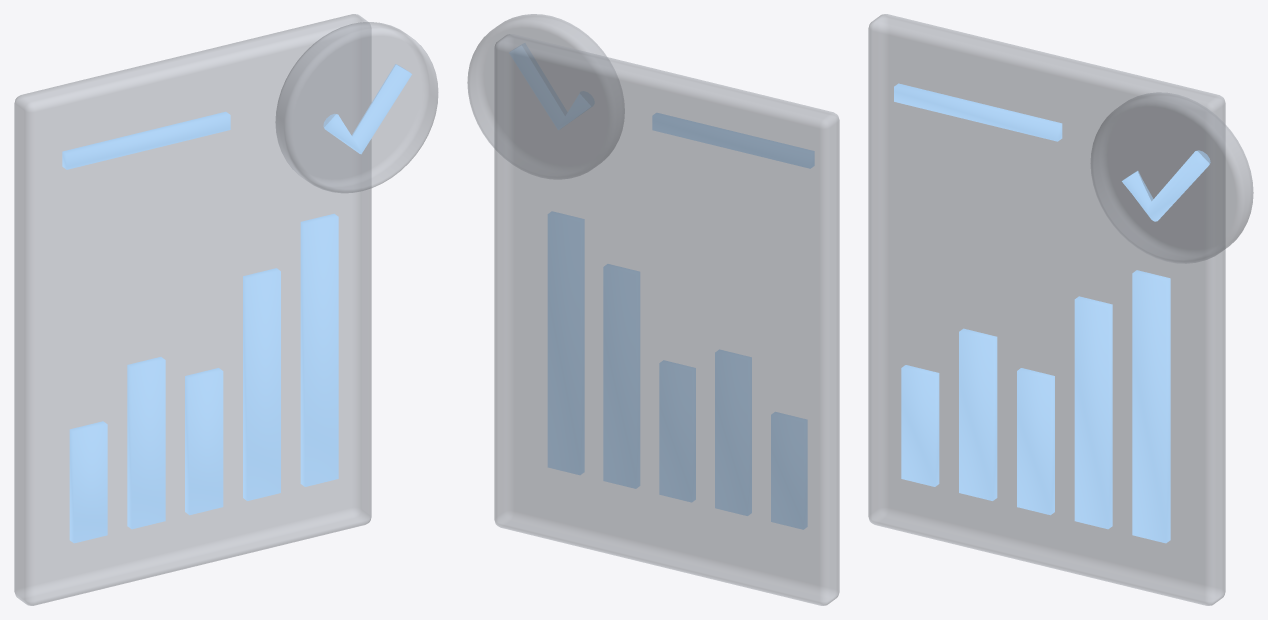
The model's file is rapport-lundi.glb.
The picture shows the model from 3 angles, left to right: view 1: azimuth 30°, elevation 25°; view 2: azimuth 150°, elevation 25°; view 3: azimuth 330°, elevation 25°; orthographic projection. The views are drawn at different scales.
Parts seen in each view (by area): view 1: feuille.001, sceau, barre4, barre3, barre1, barre2, barre0, titre, coche.002; view 2: feuille.001, sceau, barre4, barre3, barre1, barre2, barre0, titre, coche.002; view 3: feuille.001, sceau, barre4, barre3, barre1, barre2, barre0, titre, coche.002.
Part boxes in pixels (<box>): feuille.001: <box>14,14,371,605</box>; sceau: <box>275,22,438,193</box>; barre4: <box>300,213,338,486</box>; barre3: <box>243,268,280,500</box>; barre1: <box>127,357,165,529</box>; barre2: <box>185,368,223,515</box>; barre0: <box>69,421,107,543</box>; titre: <box>62,111,230,169</box>; coche.002: <box>323,64,411,154</box>; feuille.001: <box>494,34,839,605</box>; sceau: <box>467,14,624,179</box>; barre4: <box>547,211,584,474</box>; barre3: <box>603,264,640,488</box>; barre1: <box>715,349,751,515</box>; barre2: <box>659,360,695,502</box>; barre0: <box>771,412,807,529</box>; titre: <box>652,113,814,168</box>; coche.002: <box>509,43,593,129</box>; feuille.001: <box>868,14,1225,605</box>; sceau: <box>1090,92,1253,263</box>; barre4: <box>1132,270,1170,543</box>; barre3: <box>1074,296,1112,529</box>; barre1: <box>959,328,997,500</box>; barre2: <box>1017,368,1054,515</box>; barre0: <box>901,365,939,486</box>; titre: <box>894,83,1062,141</box>; coche.002: <box>1122,150,1210,221</box>.
Size of the model in its own units: 0.82 by 1.02 by 0.148.
